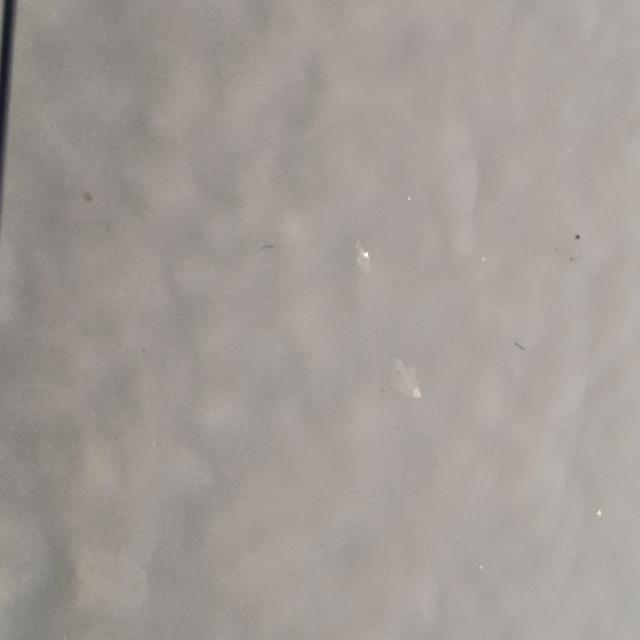Plastic: (388, 348, 421, 408), (353, 236, 372, 278), (477, 249, 488, 266), (596, 507, 604, 520), (407, 194, 412, 204)
